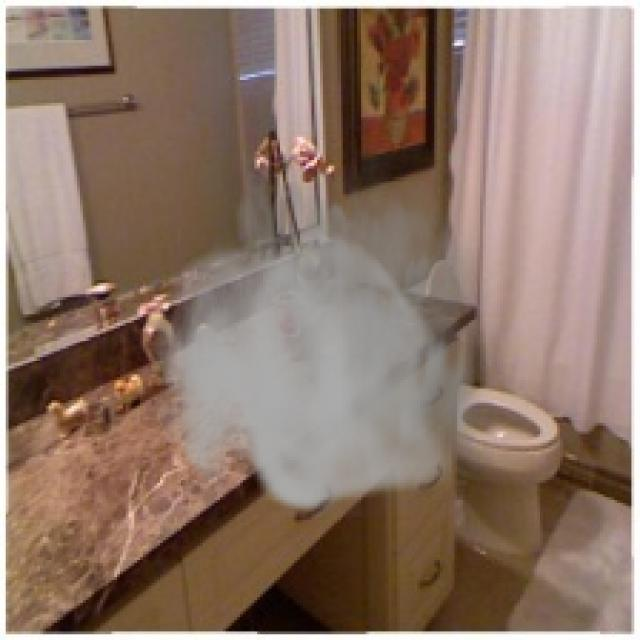smoke: (149, 134, 497, 517)
